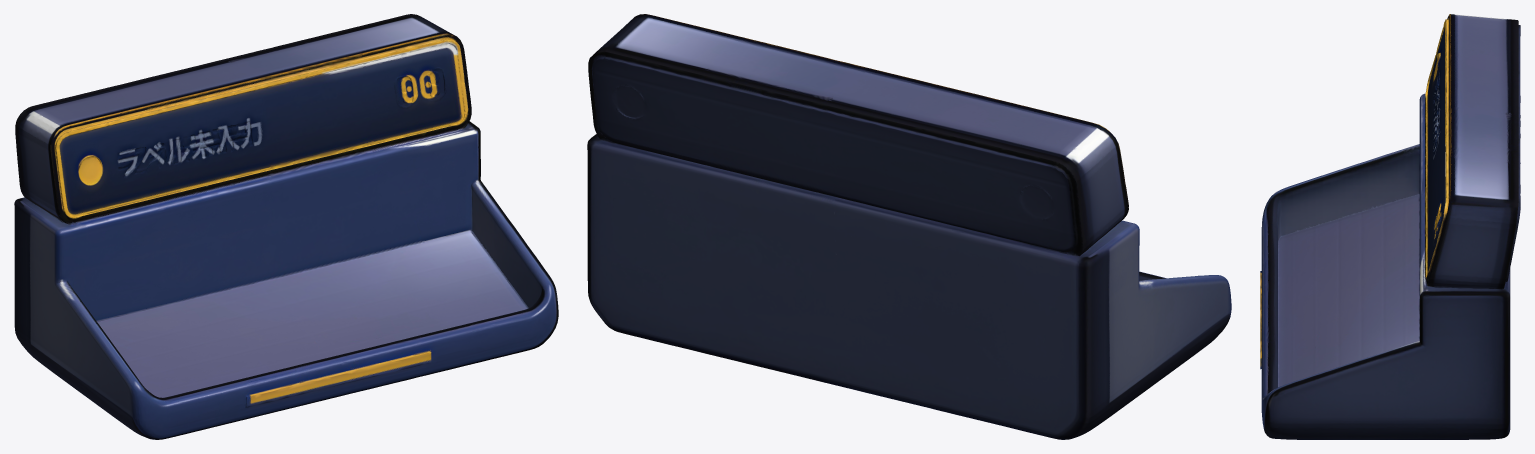
File: box-model-sample.glb
3 renders of one model, left to right at view 1: azimuth 30°, elevation 25°; view 2: azimuth 150°, elevation 25°; view 3: azimuth 270°, elevation 25°, orthographic. The views are drawn at different scales.
Visible parts, largest first — view 1: tripo_node_d5b182ea-e5c0-4556-8519-d7664a06f9bd; view 2: tripo_node_d5b182ea-e5c0-4556-8519-d7664a06f9bd; view 3: tripo_node_d5b182ea-e5c0-4556-8519-d7664a06f9bd.
Boxes of the visible parts, box(x1,y1,x2,y2) form: tripo_node_d5b182ea-e5c0-4556-8519-d7664a06f9bd: box(14, 14, 558, 439); tripo_node_d5b182ea-e5c0-4556-8519-d7664a06f9bd: box(587, 14, 1231, 439); tripo_node_d5b182ea-e5c0-4556-8519-d7664a06f9bd: box(1260, 14, 1520, 439).
Size of the model in its own units: 1 by 0.5574 by 0.5432.
Materials: 1 (1 with a texture image).
